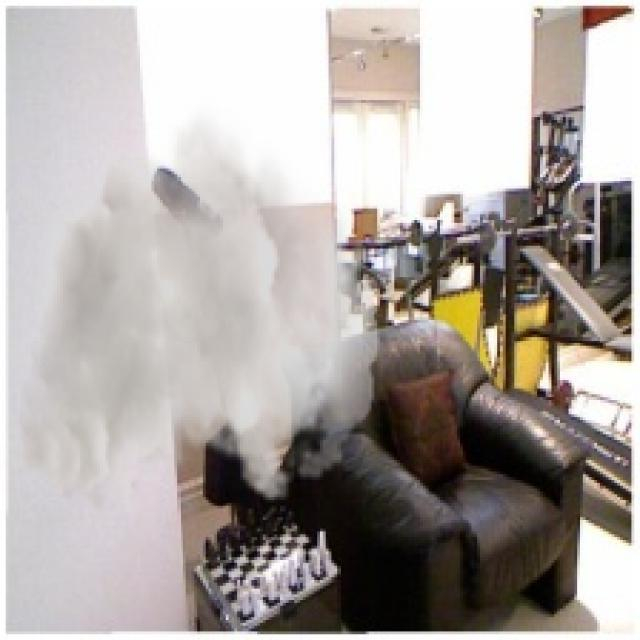Smoke: (17, 97, 380, 514)
